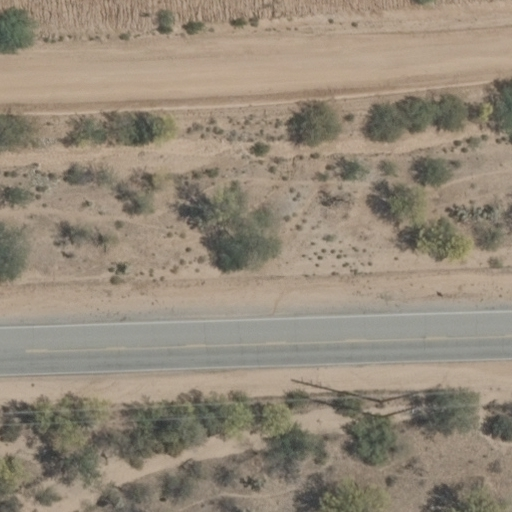DT: (375, 381, 428, 425)
